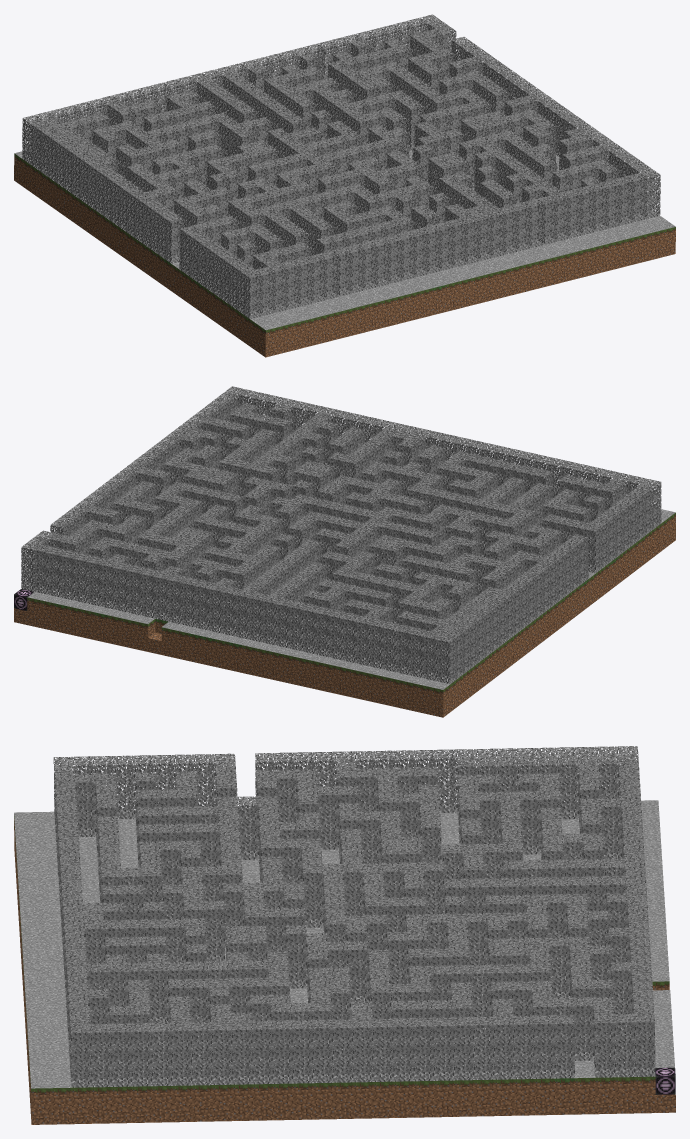
Rendered from Labyrinth.fbx.
3 renders of one model, top to bottom at view 1: azimuth 30°, elevation 25°; view 2: azimuth 150°, elevation 25°; view 3: azimuth 270°, elevation 25°, orthographic. The views are drawn at different scales.
Parts seen in each view (by area): view 1: node_id137, node_id149, node_id141, node_id133, node_id145, node_id153, node_id147, node_id151, node_id143, node_id125, node_id139, node_id121 (+2 smaller); view 2: node_id137, node_id149, node_id141, node_id133, node_id145, node_id153, node_id125, node_id123, node_id121, node_id129, node_id119, node_id127 (+2 smaller); view 3: node_id137, node_id133, node_id149, node_id145, node_id141, node_id153, node_id143, node_id131, node_id147, node_id125, node_id121, node_id151 (+6 smaller).
Part boxes in pixels (<box>): node_id137: <box>128,60,450,221</box>; node_id149: <box>253,152,545,295</box>; node_id141: <box>38,106,232,257</box>; node_id133: <box>333,25,573,170</box>; node_id145: <box>458,114,660,244</box>; node_id153: <box>163,195,340,318</box>; node_id147: <box>313,193,560,334</box>; node_id151: <box>163,253,355,357</box>; node_id143: <box>471,158,675,282</box>; node_id125: <box>112,44,325,130</box>; node_id139: <box>37,141,233,284</box>; node_id121: <box>317,14,447,83</box>; node_id137: <box>163,479,480,647</box>; node_id149: <box>293,413,567,562</box>; node_id141: <box>371,530,581,672</box>; node_id133: <box>35,447,265,601</box>; node_id145: <box>152,386,352,506</box>; node_id153: <box>487,461,661,583</box>; node_id125: <box>142,566,363,663</box>; node_id123: <box>134,605,366,696</box>; node_id121: <box>21,536,149,615</box>; node_id129: <box>356,610,464,683</box>; node_id119: <box>14,580,154,648</box>; node_id127: <box>349,654,464,717</box>; node_id137: <box>279,807,608,1004</box>; node_id133: <box>291,945,615,1083</box>; node_id149: <box>57,813,285,1007</box>; node_id145: <box>66,951,292,1087</box>; node_id141: <box>275,746,601,863</box>; node_id153: <box>53,753,279,868</box>; node_id143: <box>26,1009,293,1124</box>; node_id131: <box>290,1000,615,1119</box>; node_id147: <box>17,868,284,1043</box>; node_id125: <box>604,806,650,998</box>; node_id121: <box>611,944,655,1077</box>; node_id151: <box>14,808,259,904</box>.
Bounding box in the file's own units: 0.3829 × 0.0637 × 0.383.
18 materials, 18 textured.
